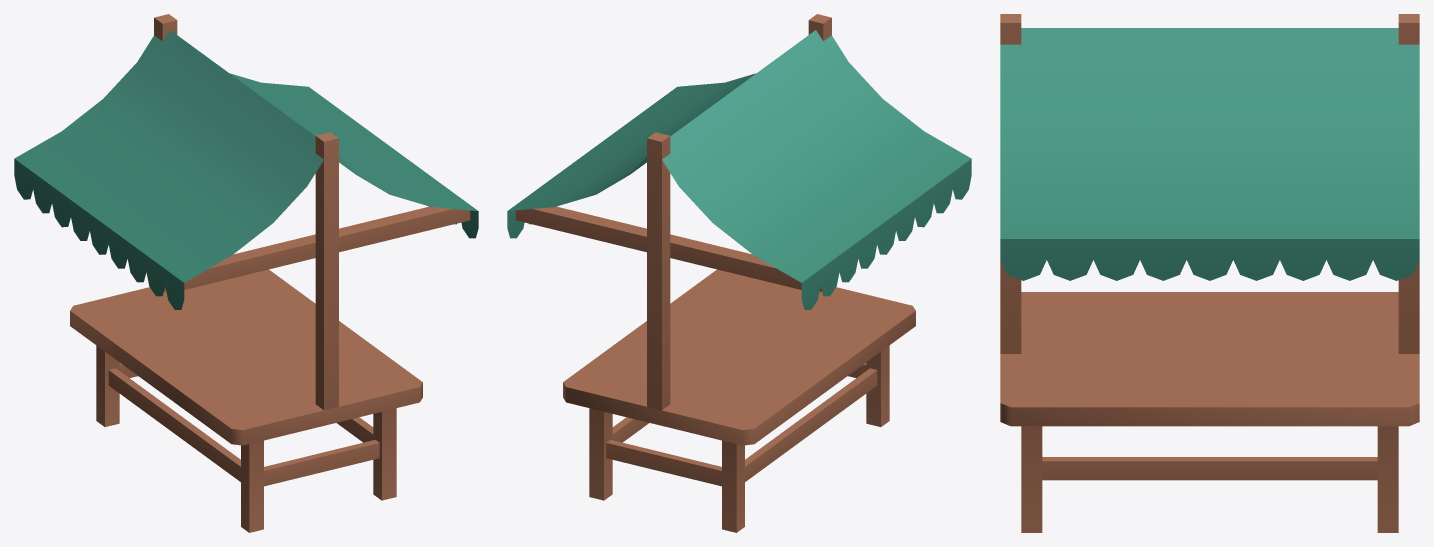
Rendered from T_stall-green.glb.
3 views of the same model, side by side, from view 1: azimuth 30°, elevation 25°; view 2: azimuth 150°, elevation 25°; view 3: azimuth 270°, elevation 25° (orthographic). The views are drawn at different scales.
Parts seen in each view (by area): view 1: stall-green; view 2: stall-green; view 3: stall-green.
Part boxes in pixels (x1=…): stall-green: x1=14, y1=14, x2=478, y2=532; stall-green: x1=507, y1=14, x2=971, y2=532; stall-green: x1=1000, y1=14, x2=1419, y2=532.
Size of the model in its own units: 1 by 1.24 by 1.
